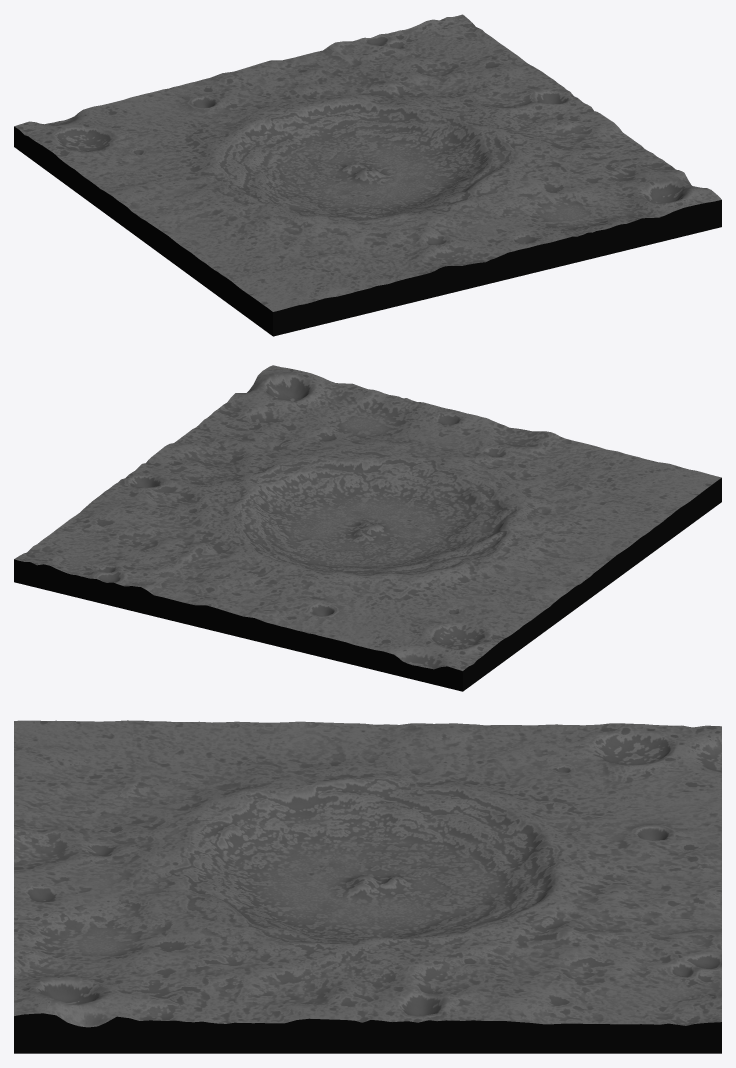
The picture shows the model from 3 angles, top to bottom: view 1: azimuth 30°, elevation 25°; view 2: azimuth 150°, elevation 25°; view 3: azimuth 270°, elevation 25°; orthographic projection. The views are drawn at different scales.
Parts seen in each view (by area): view 1: LAngrenus_LP; view 2: LAngrenus_LP; view 3: LAngrenus_LP.
Boxes of the visible parts, x1,y1,x2,y2 form: LAngrenus_LP: [14, 14, 721, 336]; LAngrenus_LP: [14, 365, 721, 691]; LAngrenus_LP: [14, 720, 721, 1053].
Bounding box in the file's own units: 2499 × 170 × 2499.
2 materials, 1 textured.
